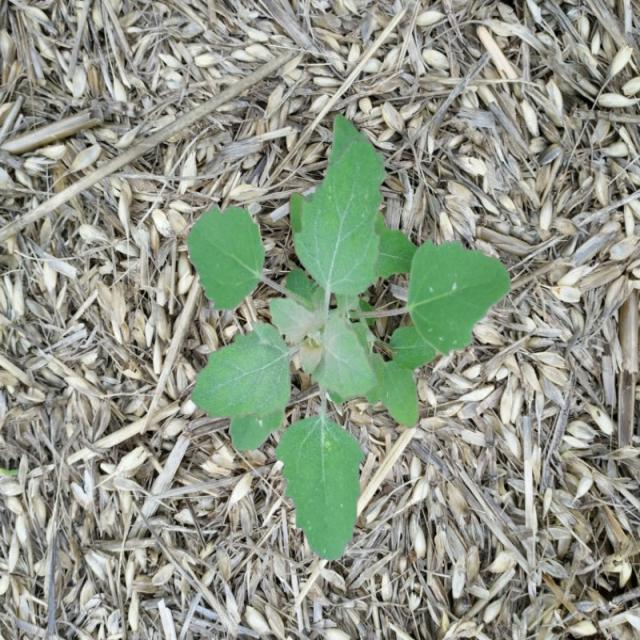goosefoots: (168, 96, 491, 549)
